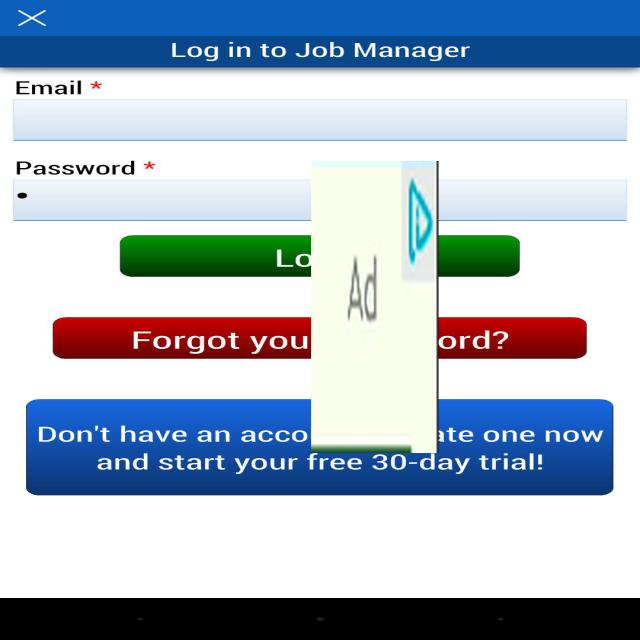sneaking: (311, 161, 439, 453)
